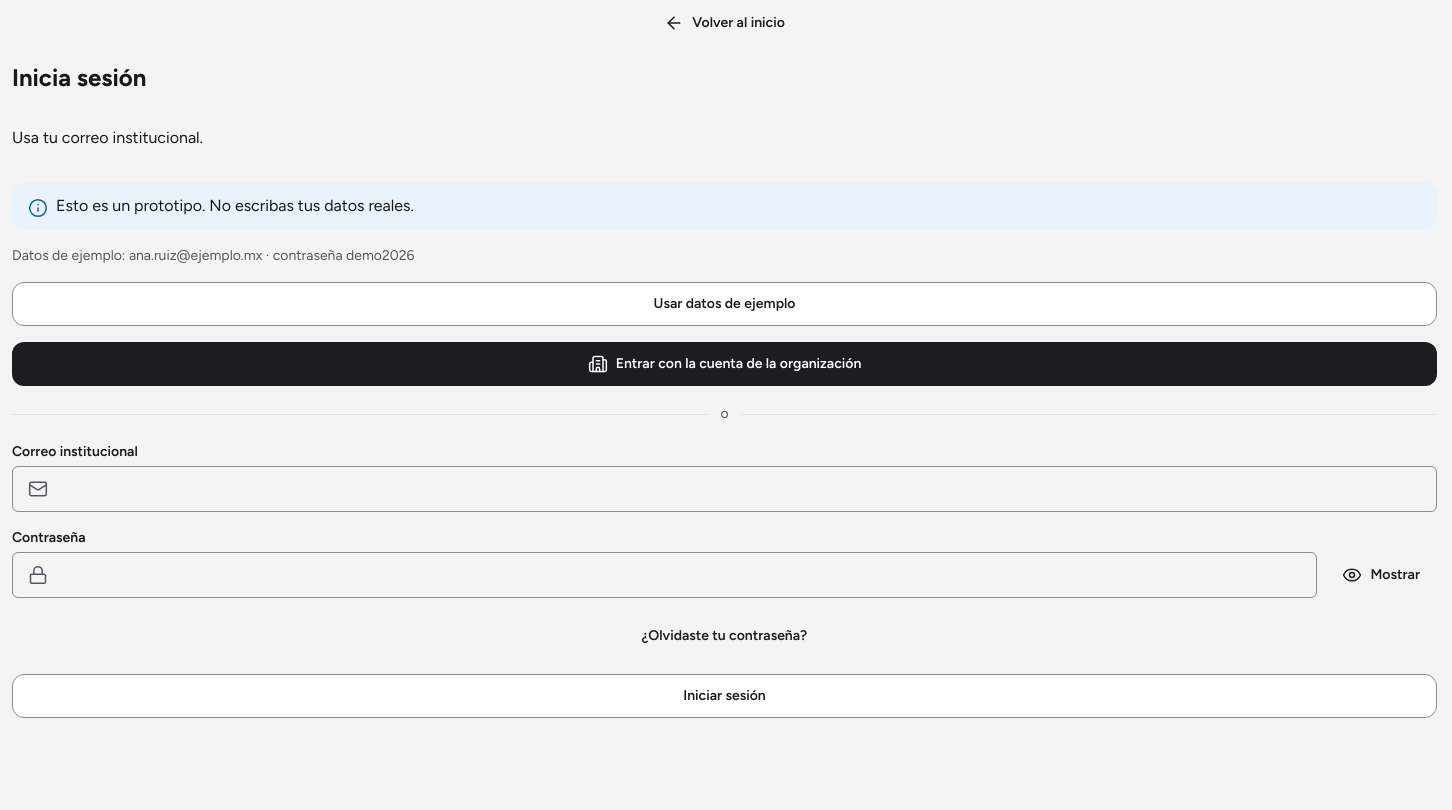
Scenario: A1 sign-in view › S-A1-4: a 401 shows the generic message, keeps the email and does not sign in
In the field labelled "Correo institucional": (724, 489) [12, 466, 1437, 512], type "ana.ruiz@ejemplo.mx"
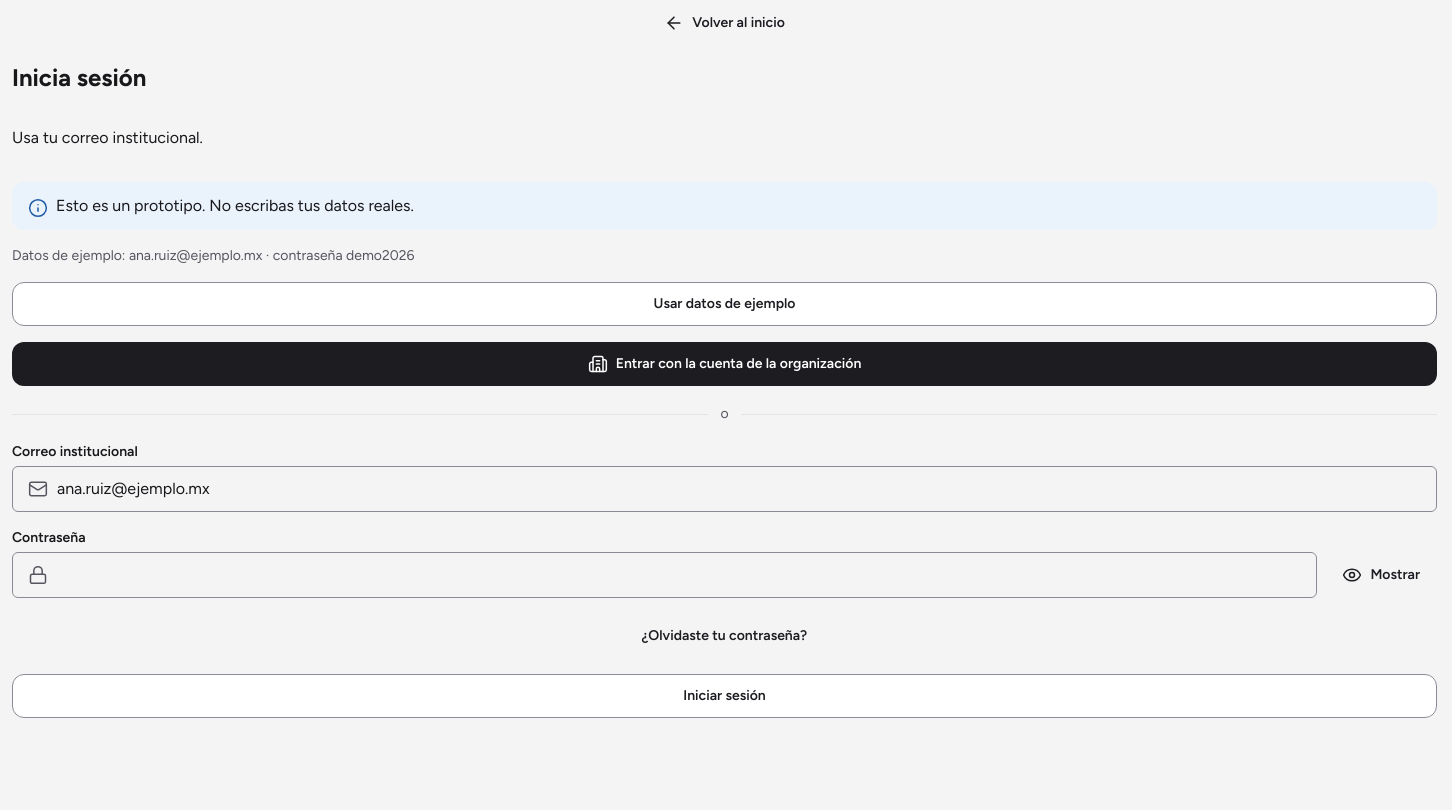
In the password field labelled "Contraseña": (665, 575) [12, 552, 1317, 598], type "mal"
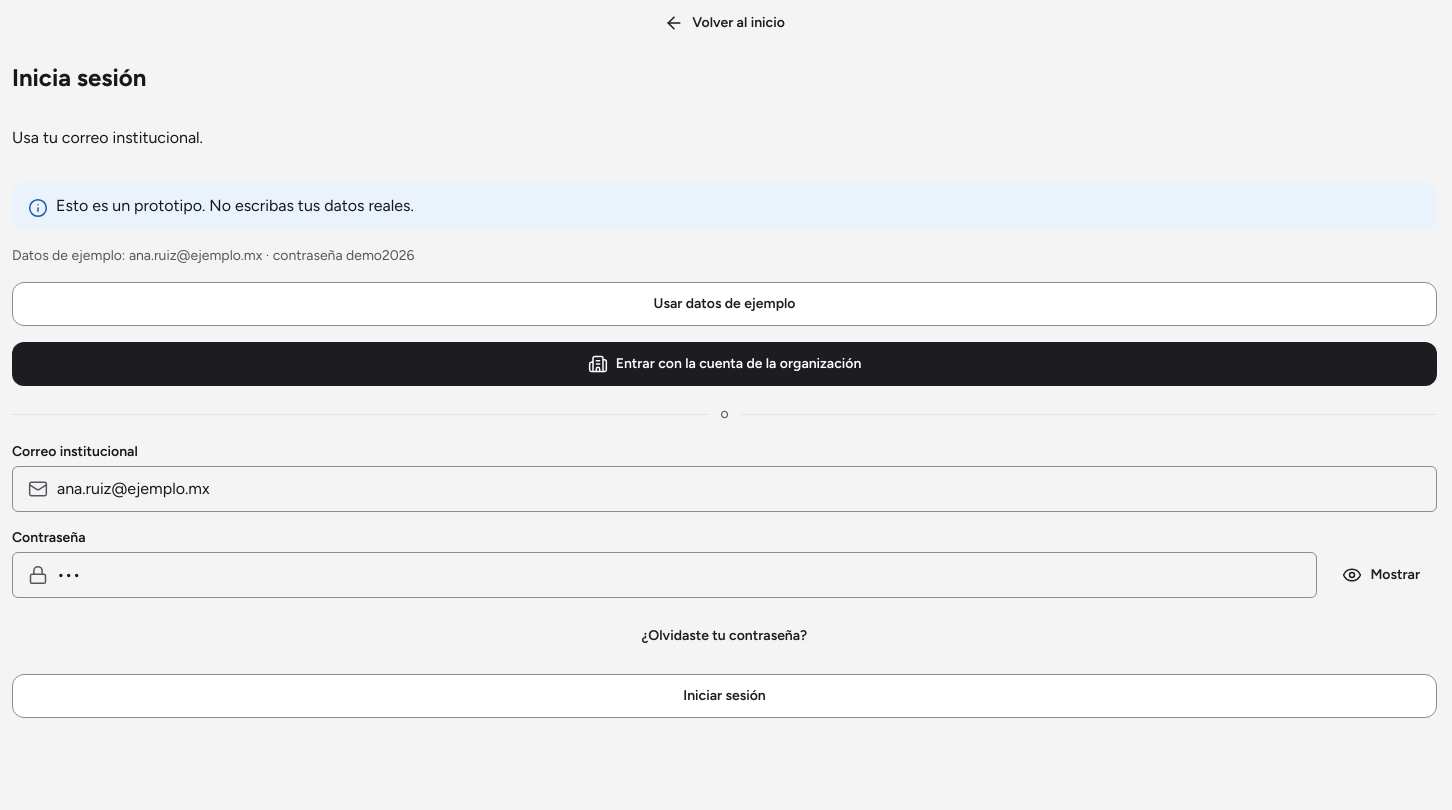
Click the button "Iniciar sesión": (724, 696) [12, 674, 1437, 718]
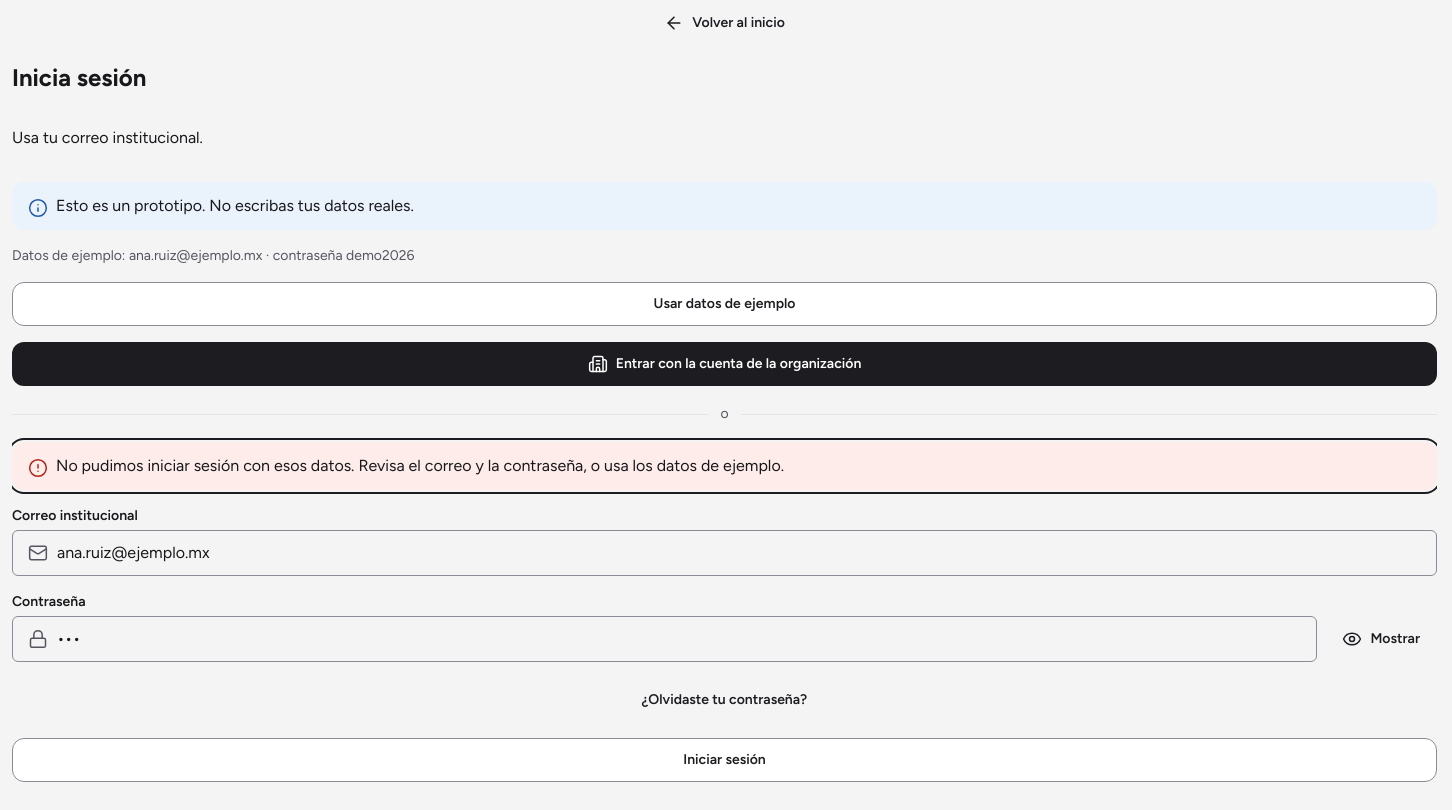
Result: the message shows "No pudimos iniciar sesión con esos datos. Revisa el correo y la contraseña, o usa los datos de ejemplo." at [56, 456, 784, 475]
